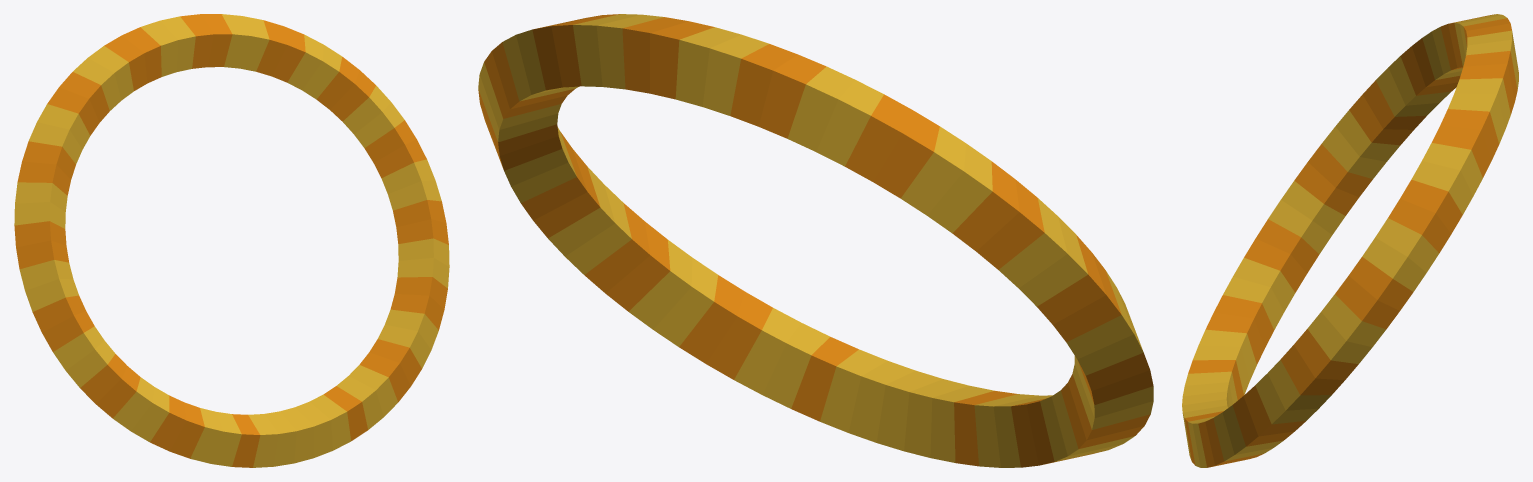
The model's file is YellowRing.fbx.
3 renders of one model, left to right at view 1: azimuth 30°, elevation 25°; view 2: azimuth 150°, elevation 25°; view 3: azimuth 270°, elevation 25°, orthographic. The views are drawn at different scales.
Visible parts, largest first — view 1: Torus; view 2: Torus; view 3: Torus.
Part boxes in pixels (bbox=[...]): Torus: bbox=[14, 14, 449, 467]; Torus: bbox=[478, 14, 1153, 467]; Torus: bbox=[1182, 14, 1518, 467].
Size of the model in its own units: 597 by 482 by 369.
